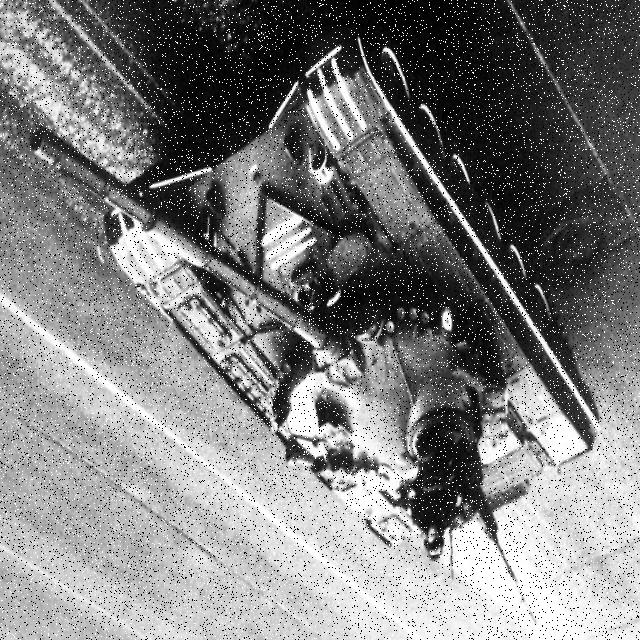MIL_MBT: (15, 76, 601, 555)
